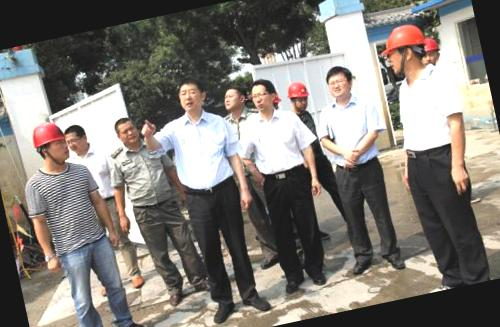no_helmet: (171, 72, 210, 117), (320, 60, 359, 104), (246, 72, 282, 115), (215, 76, 251, 116), (108, 113, 142, 149), (64, 117, 96, 155)
